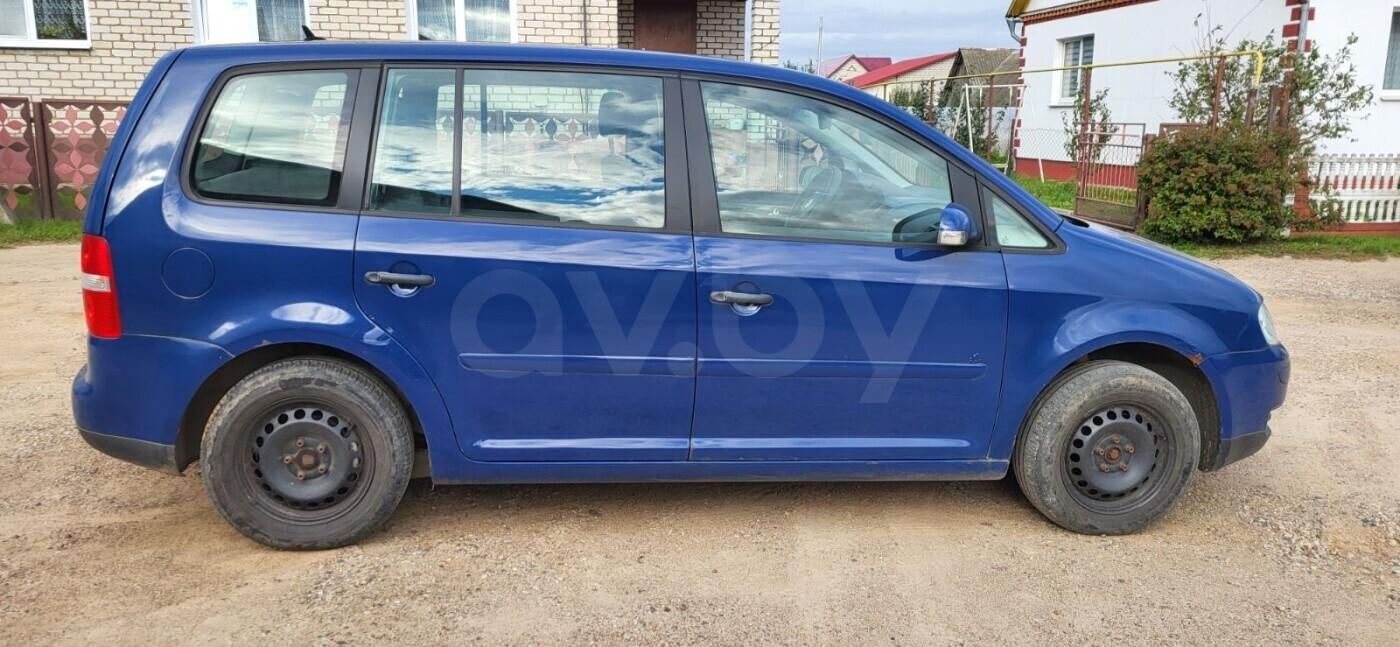Touran_2003-2006: (63, 34, 1288, 555)
